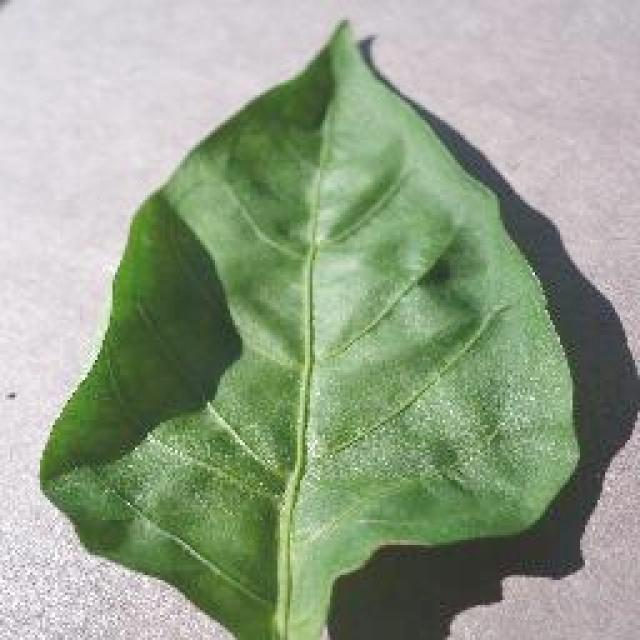Leaf: (35, 24, 640, 640)
